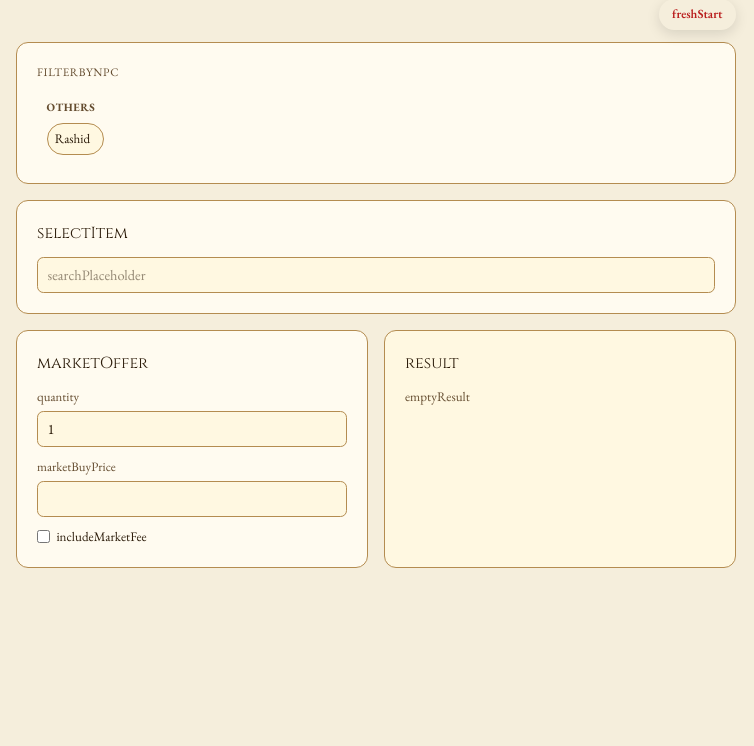
Test: TradeCalculator › shows capacity calculation when cart exists
Type "gold" into the field with placeholder "searchPlaceholder" at (376, 275), box [37, 257, 715, 293]
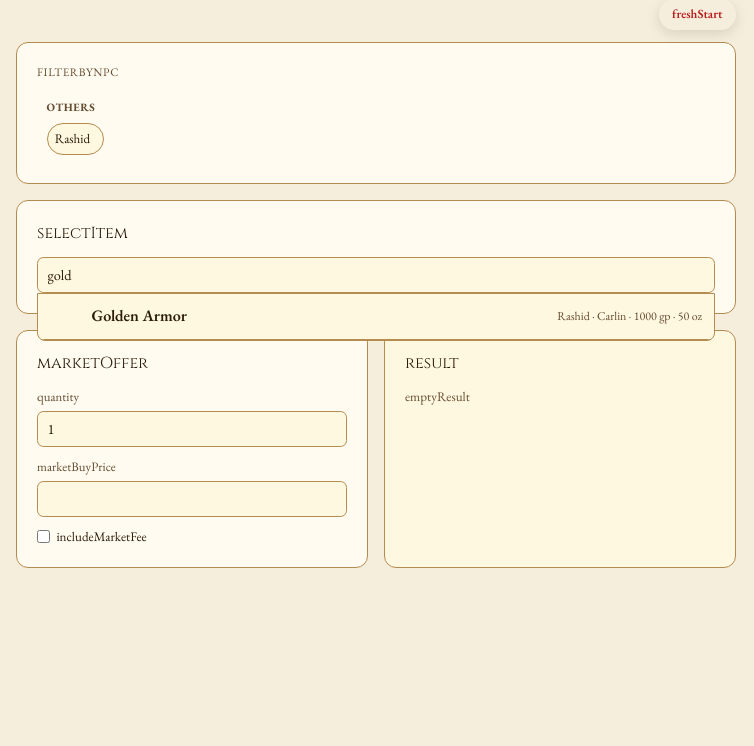
Click the text "Golden Armor" at (139, 316), box [92, 305, 187, 326]
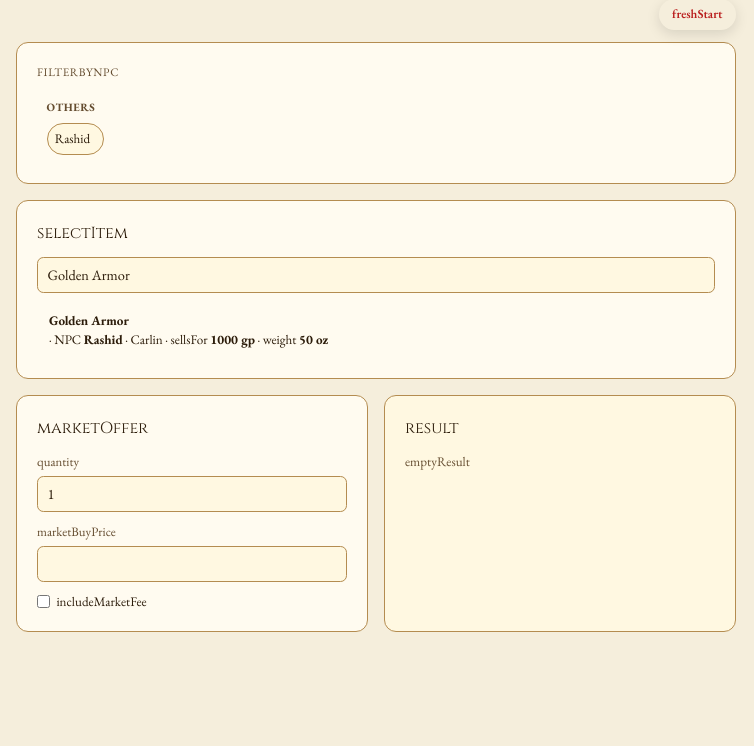
Type "1000" into the number field labelled "marketBuyPrice" at (192, 564), box [37, 546, 347, 582]
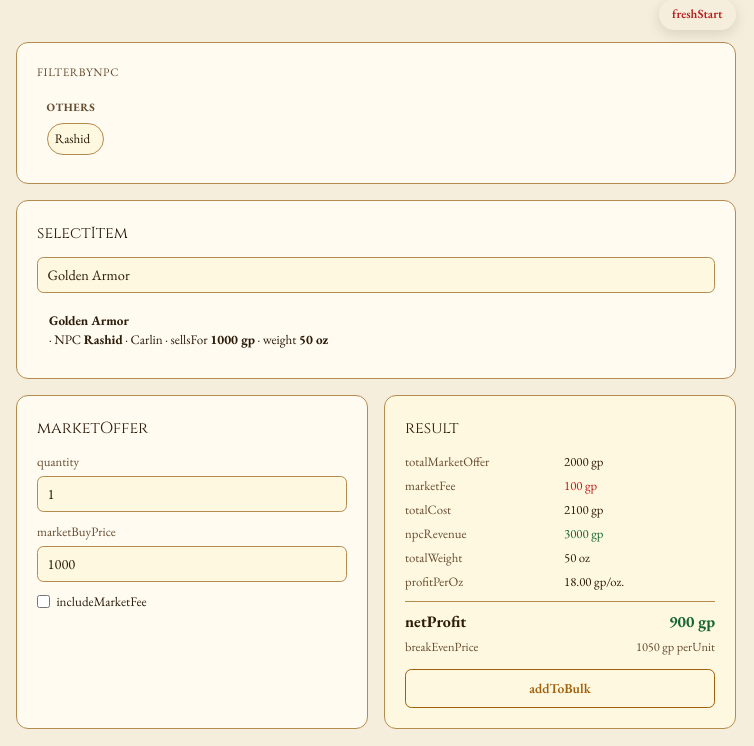
Click the button "addToBulk" at (560, 688), box [405, 669, 715, 708]
(page scrolled)
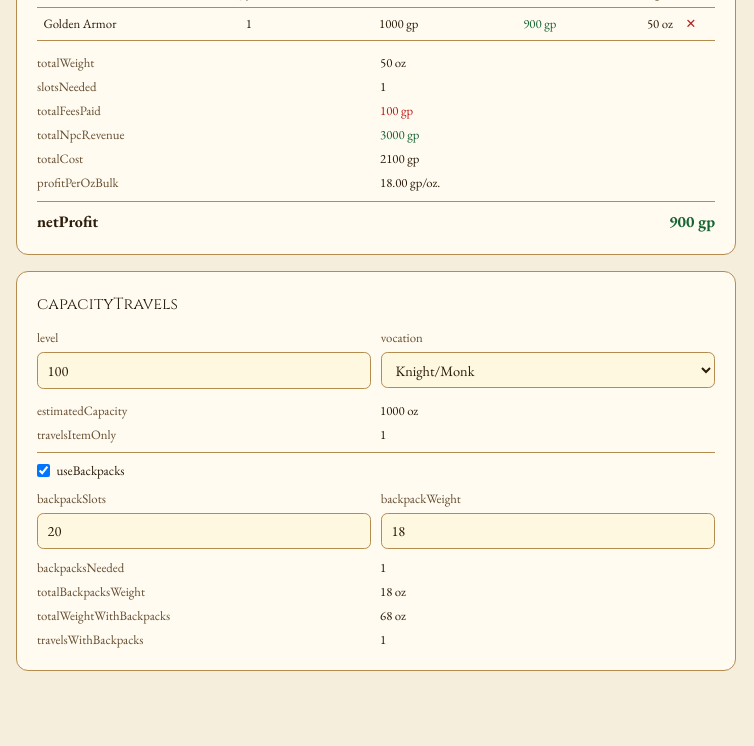
Result: the heading "capacityTravels" is shown at [37, 293, 178, 315]
Result: the text "estimatedCapacity" is shown at [37, 402, 127, 419]
Result: the text "travelsItemOnly" is shown at [37, 426, 116, 443]
